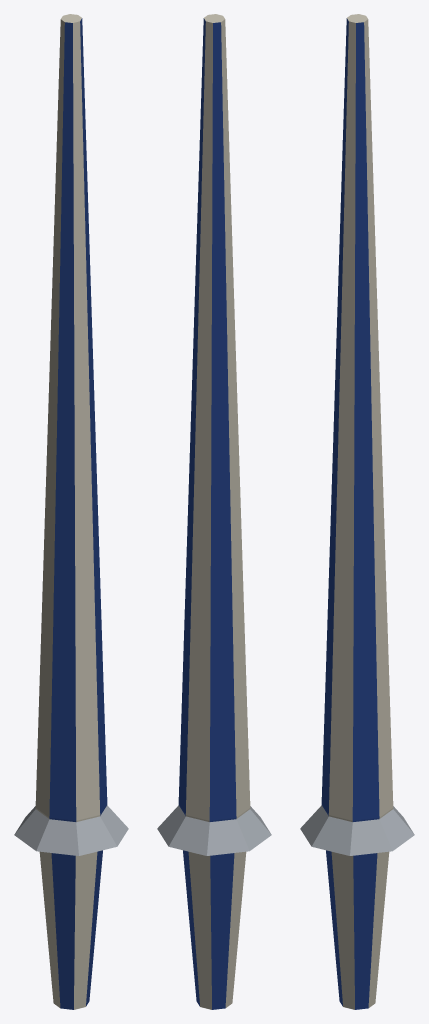
The model's file is gear_lance.glb.
3 renders of one model, left to right at view 1: azimuth 30°, elevation 25°; view 2: azimuth 150°, elevation 25°; view 3: azimuth 330°, elevation 25°, orthographic.
Visible parts, largest first — view 1: gear_lance; view 2: gear_lance; view 3: gear_lance.
Boxes of the visible parts, x1,y1,x2,y2 form: gear_lance: [14, 14, 128, 1009]; gear_lance: [157, 14, 271, 1009]; gear_lance: [300, 14, 414, 1009].
Size of the model in its own units: 0.1774 by 1.8 by 0.1774.
